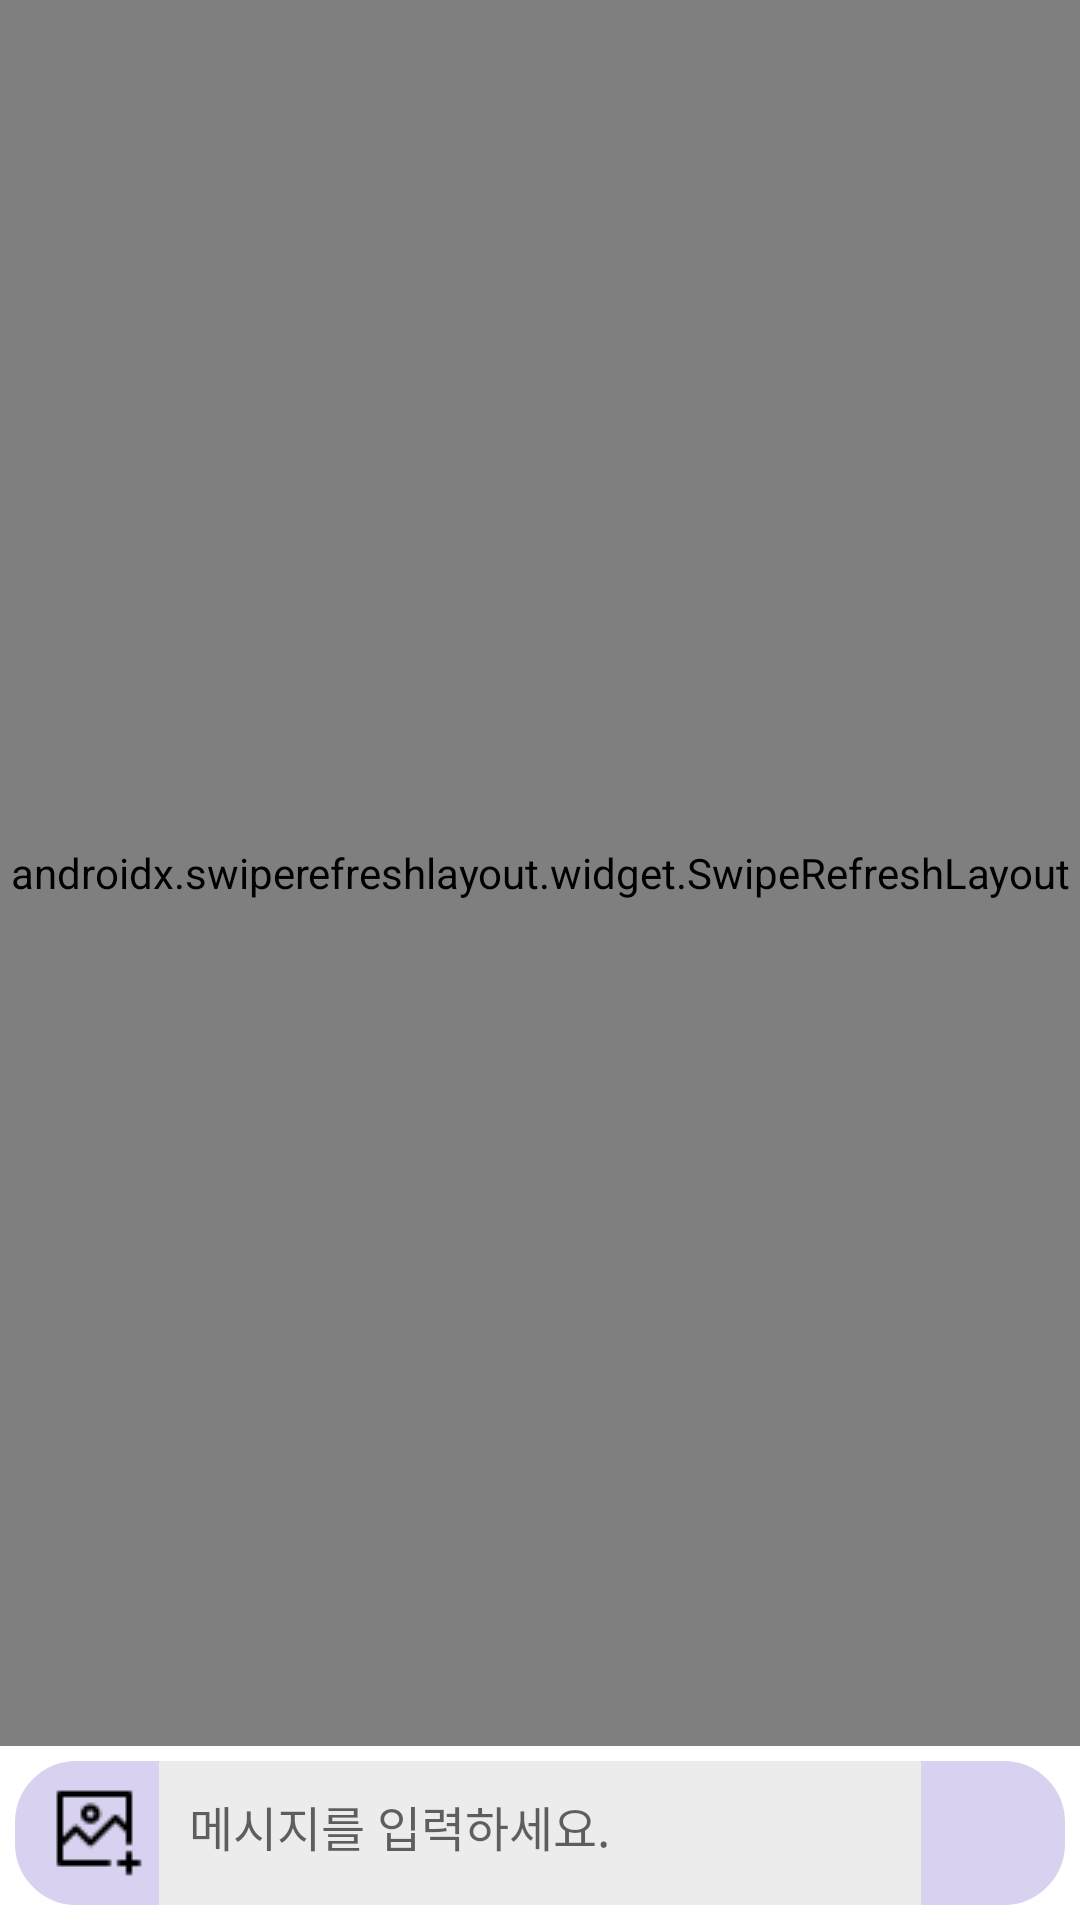

Named icons in this screenshot (1080px×1920px) and their centers, (x=x, y=y):
add: (x=87, y=1833)
